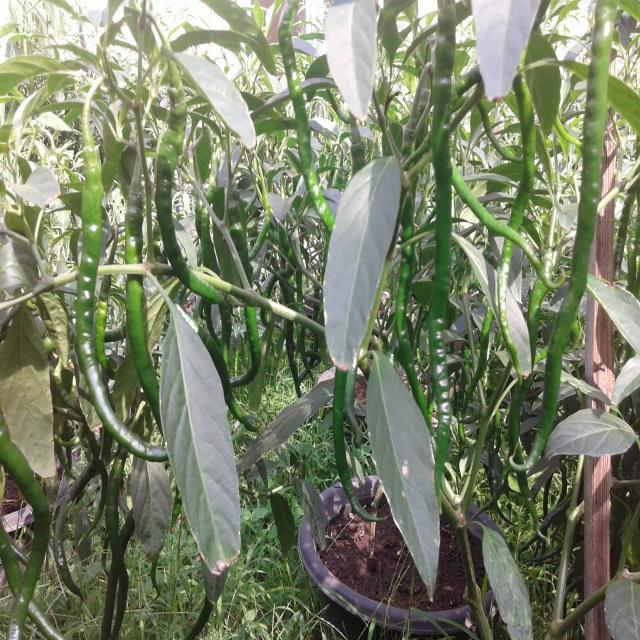sehat: (165, 38, 267, 157), (555, 391, 634, 466)
